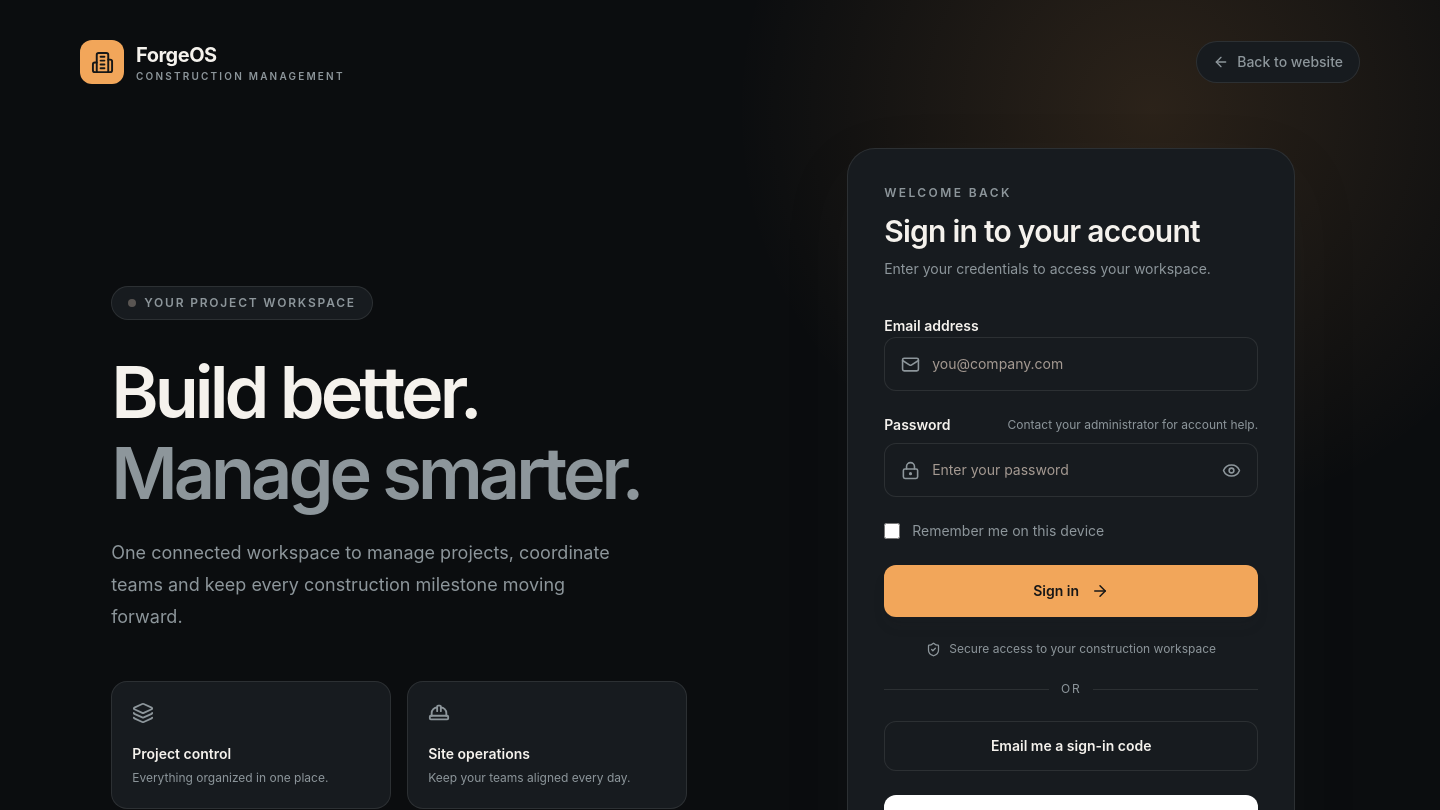
Scenario: LoginPage — password validation › a missing password is still treated as invalid
Type "asha@forge.test" into the field labelled "Email address". click: coordinates (1087, 364)
box: top-left (932, 338), bottom-right (1241, 390)
(page scrolled)
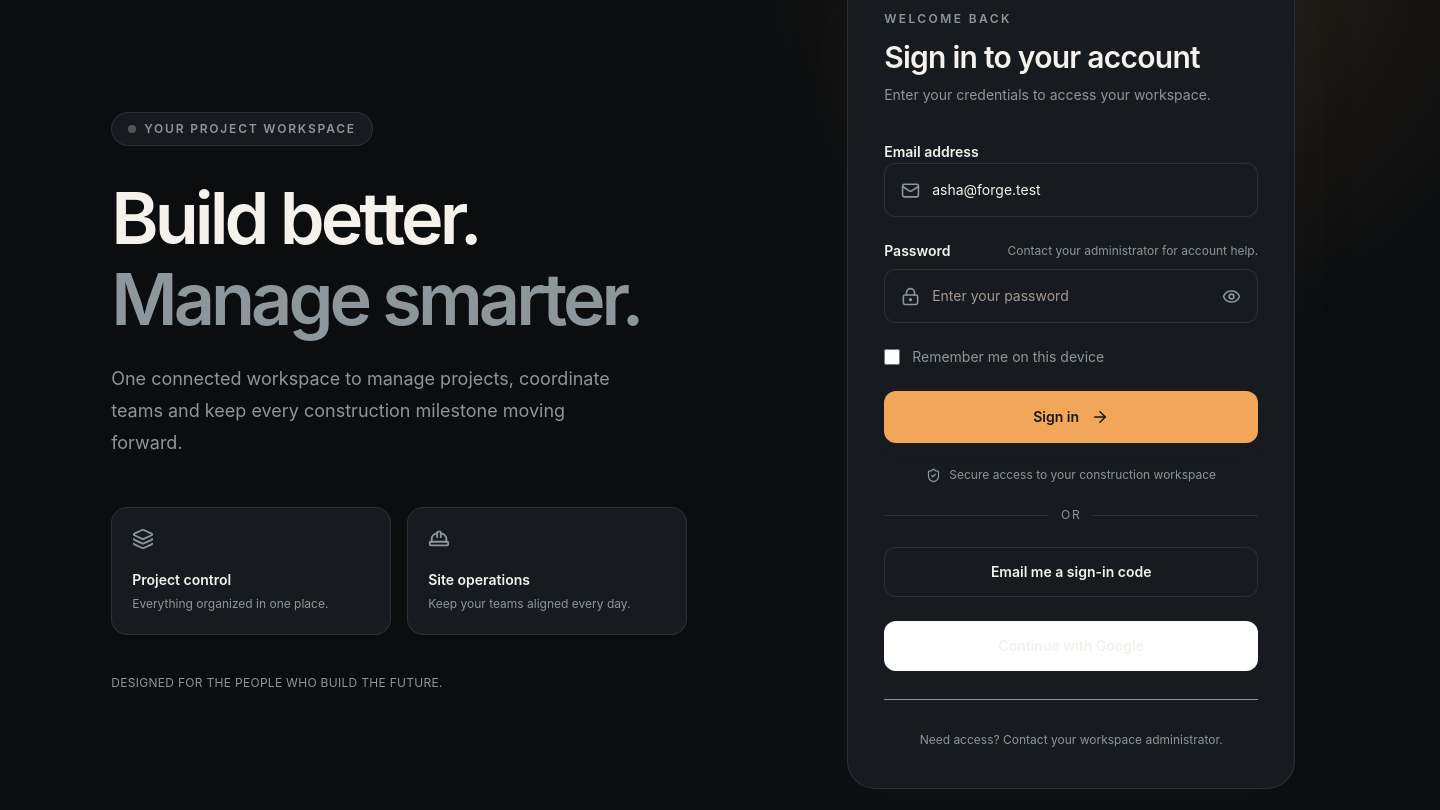
Submit the form named "Sign in", box top-left (884, 139), bottom-right (1258, 671)
(page scrolled)
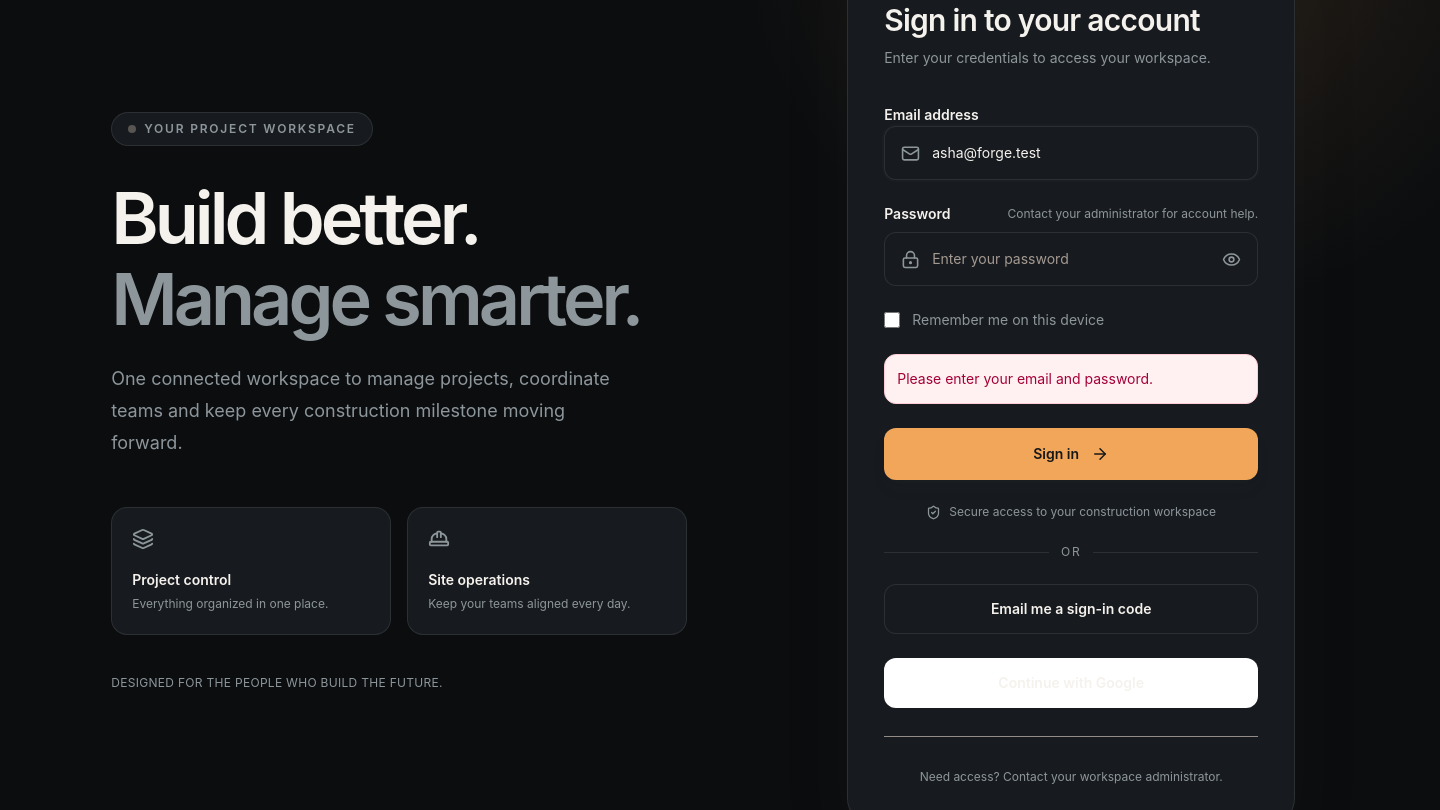
Result: the message reads "Please enter your email and password." at top-left (897, 370), bottom-right (1153, 387)
